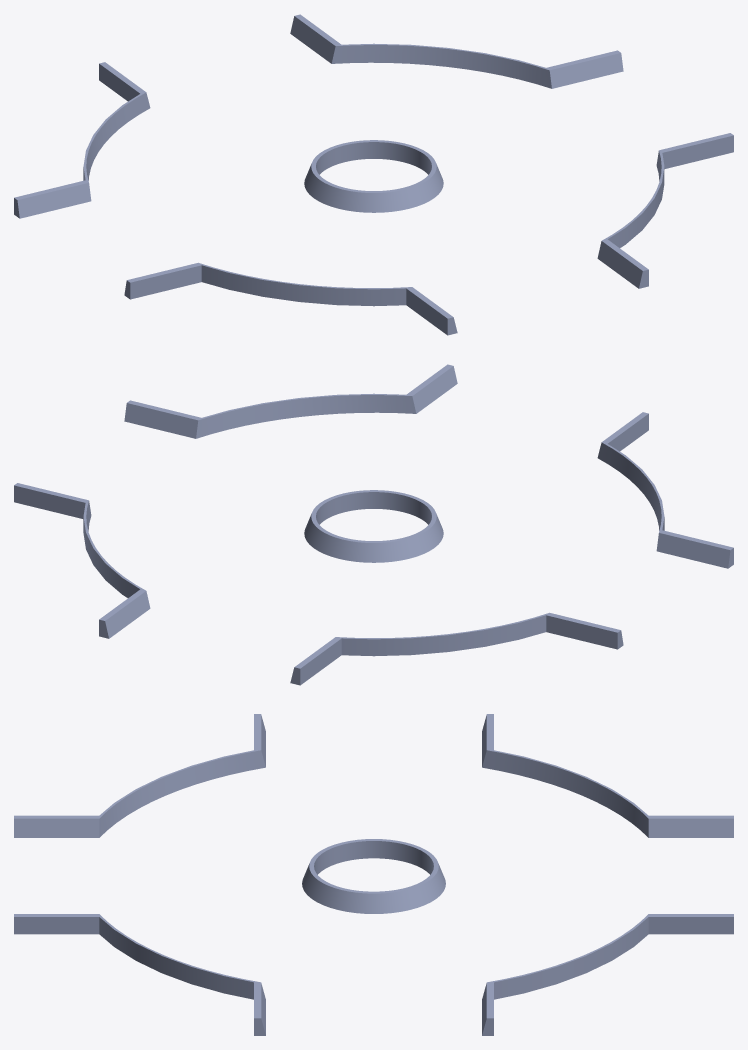
The model's file is road-roundabout-barrier.glb.
The picture shows the model from 3 angles, top to bottom: view 1: azimuth 30°, elevation 25°; view 2: azimuth 150°, elevation 25°; view 3: azimuth 270°, elevation 25°; orthographic projection. The views are drawn at different scales.
Parts seen in each view (by area): view 1: road-roundabout-barrier; view 2: road-roundabout-barrier; view 3: road-roundabout-barrier.
Part boxes in pixels (<box>): road-roundabout-barrier: <box>14,14,733,335</box>; road-roundabout-barrier: <box>14,364,733,685</box>; road-roundabout-barrier: <box>14,714,733,1035</box>.
Bounding box in the file's own units: 3 × 0.08 × 3.
Materials: 1 (1 with a texture image).
